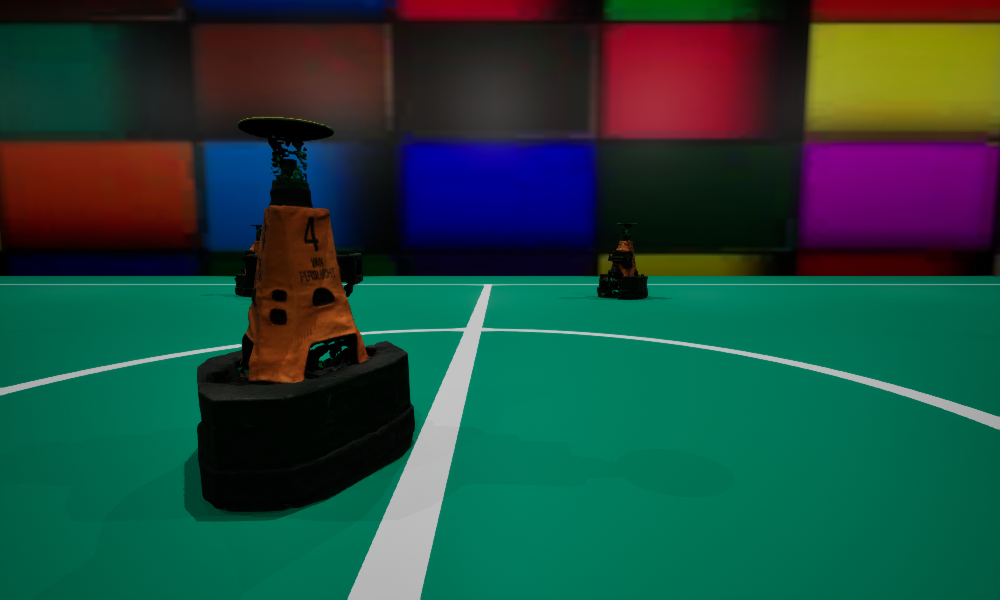0 orange robot TechUnited: (197, 117, 414, 511), (597, 223, 647, 298), (234, 225, 261, 295)
